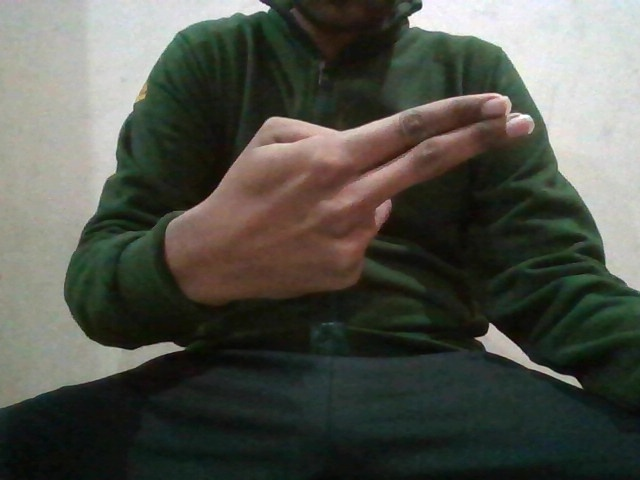H: (168, 84, 544, 305)
